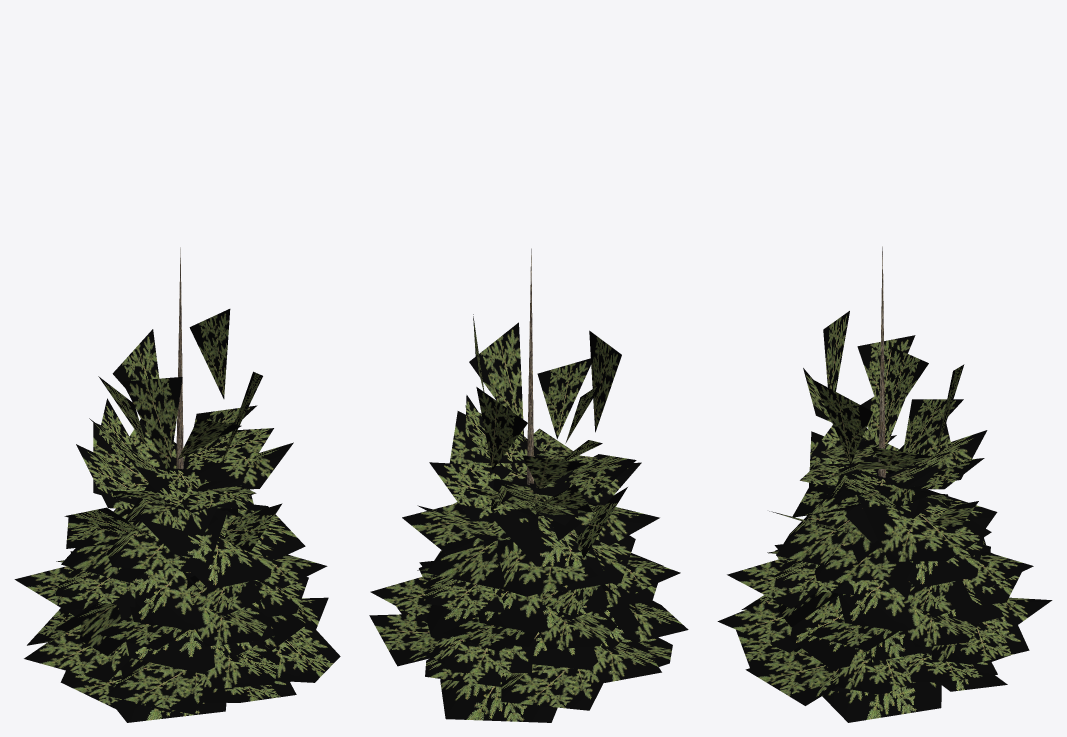
The model's file is TreeLOD.fbx.
The picture shows the model from 3 angles, left to right: view 1: azimuth 30°, elevation 25°; view 2: azimuth 150°, elevation 25°; view 3: azimuth 270°, elevation 25°; orthographic projection.
Visible parts, largest first — view 1: treeBranches2, treeTrunk2; view 2: treeBranches2, treeTrunk2; view 3: treeBranches2, treeTrunk2.
Boxes of the visible parts, <box> form: treeBranches2: <box>14,309,340,722</box>; treeTrunk2: <box>176,247,183,469</box>; treeBranches2: <box>369,314,688,722</box>; treeTrunk2: <box>527,248,533,484</box>; treeBranches2: <box>717,311,1052,722</box>; treeTrunk2: <box>878,246,885,477</box>.
Size of the model in its own units: 9.17 by 20.57 by 9.26.
